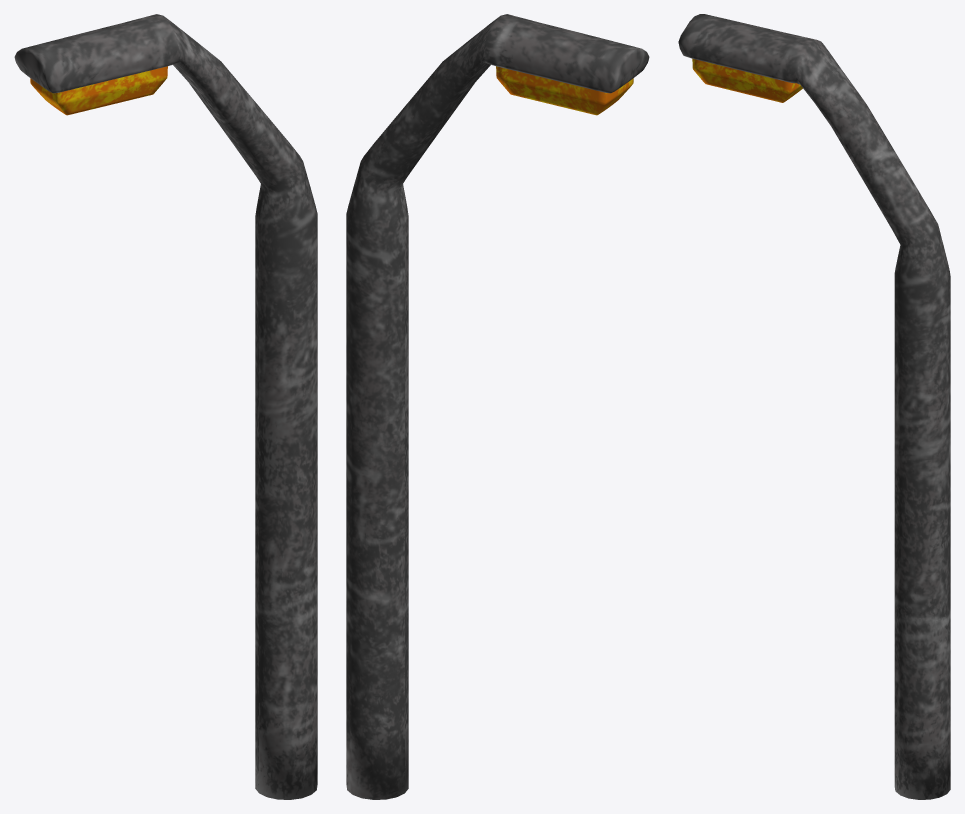
File: lamp.fbx
3 renders of one model, left to right at view 1: azimuth 30°, elevation 25°; view 2: azimuth 150°, elevation 25°; view 3: azimuth 330°, elevation 25°, orthographic. The views are drawn at different scales.
Visible parts, largest first — view 1: Circle, Circle.001; view 2: Circle, Circle.001; view 3: Circle, Circle.001.
Part boxes in pixels (<box>): Circle: <box>14,14,317,799</box>; Circle.001: <box>30,66,167,115</box>; Circle: <box>346,14,649,799</box>; Circle.001: <box>496,66,633,115</box>; Circle: <box>678,14,950,799</box>; Circle.001: <box>692,58,802,102</box>.
Size of the model in its own units: 481 by 1304 by 98.36.
1 material, 1 textured.
